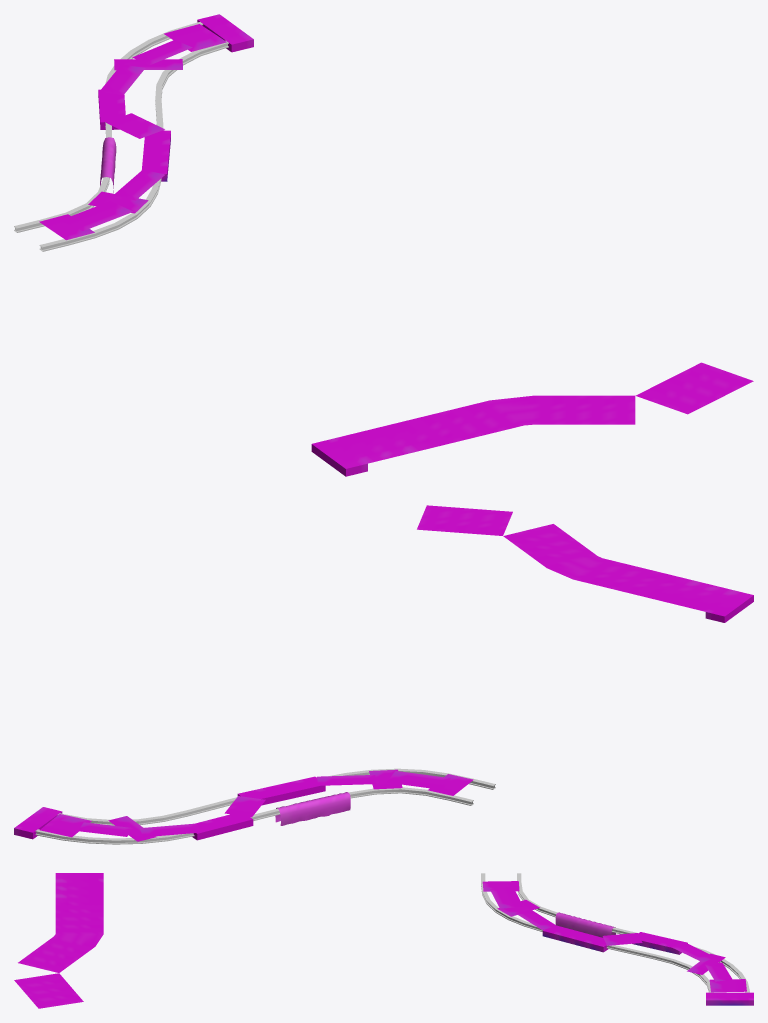
The model's file is SM_RoadModule_D2000.fbx.
The picture shows the model from 3 angles, top to bottom: view 1: azimuth 30°, elevation 25°; view 2: azimuth 150°, elevation 25°; view 3: azimuth 270°, elevation 25°; orthographic projection. The views are drawn at different scales.
Parts seen in each view (by area): view 1: output0; view 2: output0; view 3: output0.
Part boxes in pixels (x1,y1,x2,y2): output0: (14, 14, 753, 476); output0: (14, 505, 753, 844); output0: (14, 873, 753, 1008).
Size of the model in its own units: 5334 by 247 by 12294.
